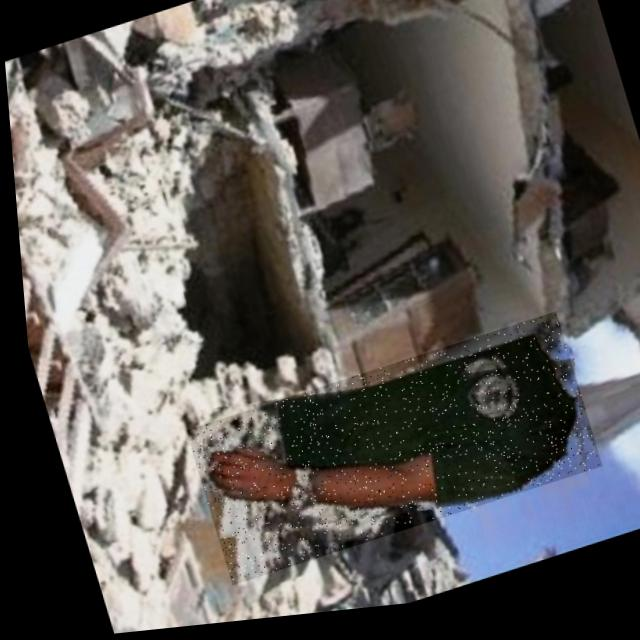Person in Rubble: (172, 319, 597, 592)
